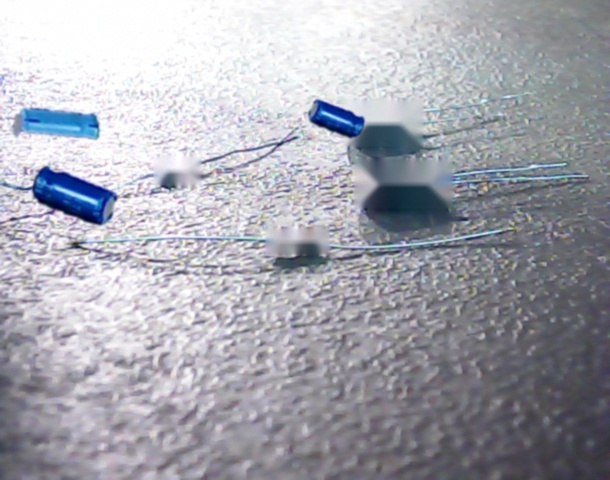capacitor: (32, 166, 117, 225), (14, 108, 100, 139), (308, 99, 365, 138)
